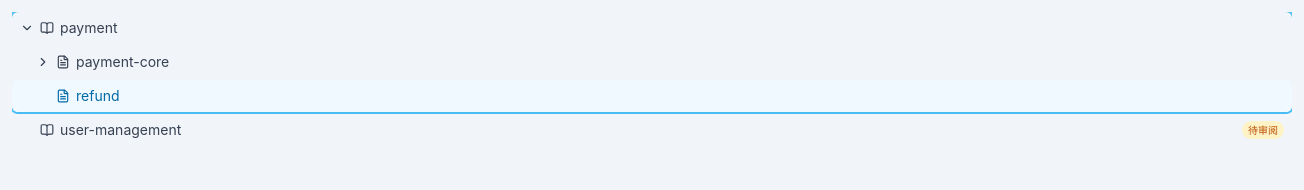
Scenario: WikiTopicTreeNav › non-root nodes with children start collapsed
Expected: the text "deep-leaf" is not shown
What coordinates should you click on to do the following:
click the button "payment-core"
I would click on:
 (123, 62)
Its box is [12, 46, 1292, 78].
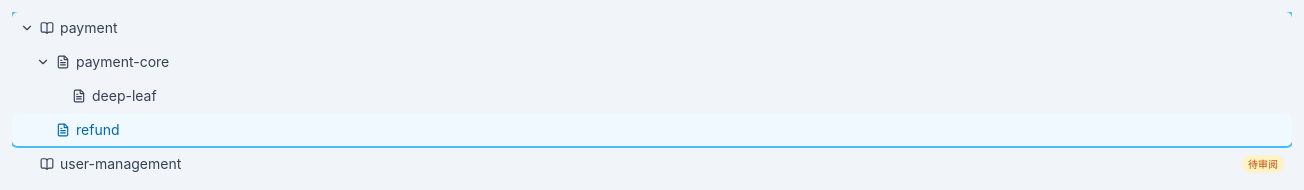
Expected: the text "deep-leaf" is shown, [92, 86, 157, 106]
